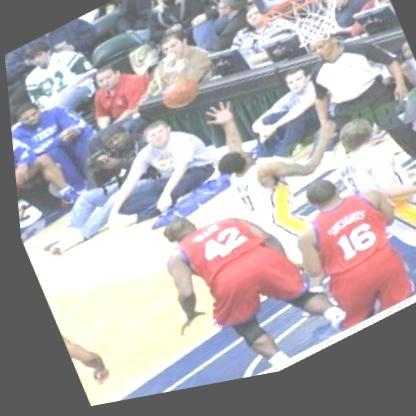basketball: (157, 76, 200, 120)
rim: (259, 0, 358, 77)
